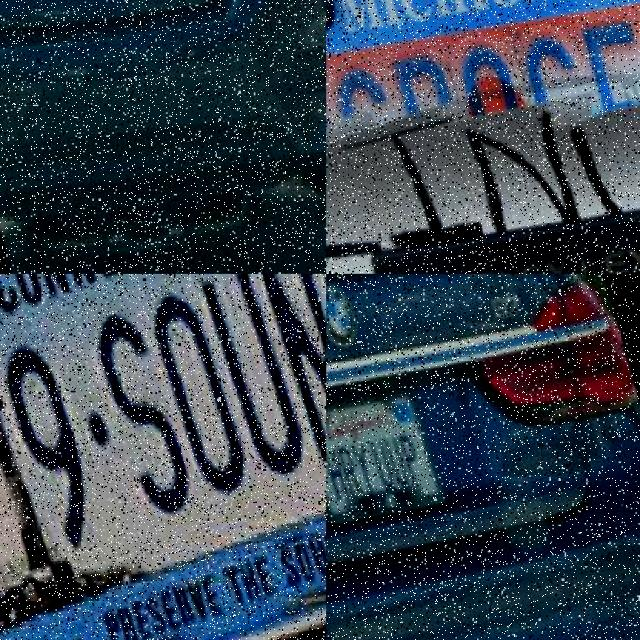licenseplate: (0, 274, 326, 615), (326, 0, 640, 274), (326, 380, 439, 525), (11, 0, 131, 52)
